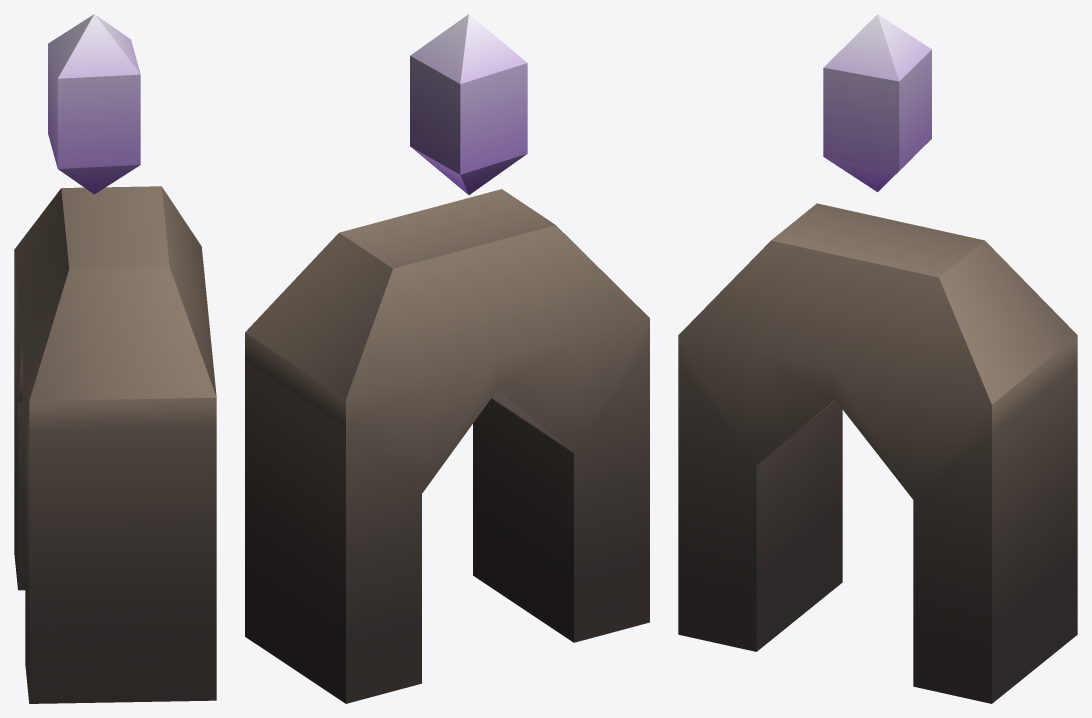
File: SRWallPiece.fbx
The picture shows the model from 3 angles, left to right: view 1: azimuth 30°, elevation 25°; view 2: azimuth 150°, elevation 25°; view 3: azimuth 270°, elevation 25°; orthographic projection.
Parts seen in each view (by area): view 1: CheckpointWallPiece; view 2: CheckpointWallPiece; view 3: CheckpointWallPiece.
Part boxes in pixels (bbox=[...]): CheckpointWallPiece: bbox=[14, 14, 216, 703]; CheckpointWallPiece: bbox=[245, 14, 649, 703]; CheckpointWallPiece: bbox=[678, 14, 1077, 703].
Bounding box in the file's own units: 0.0621 × 0.1273 × 0.0756.
